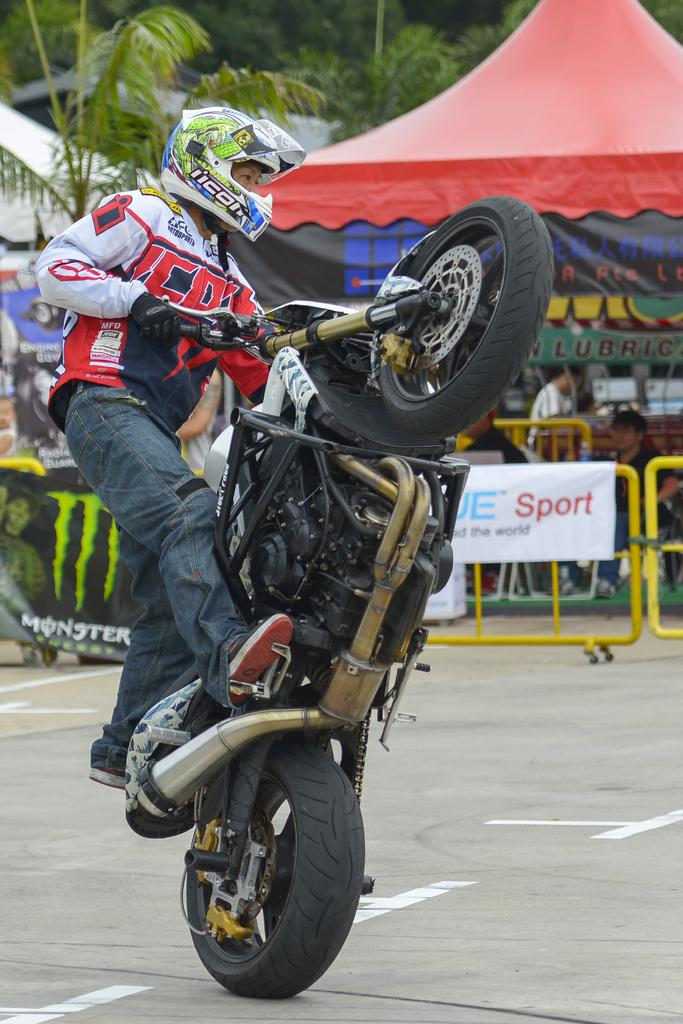helmet: (160, 106, 307, 242)
